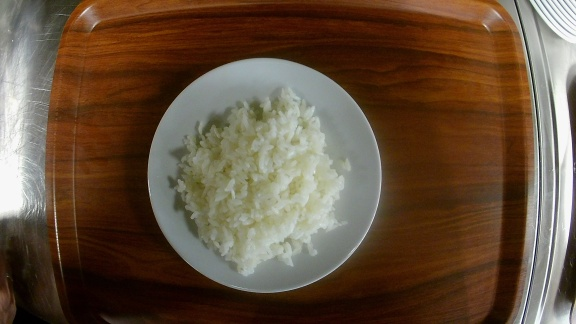pilav: (148, 58, 382, 293)
